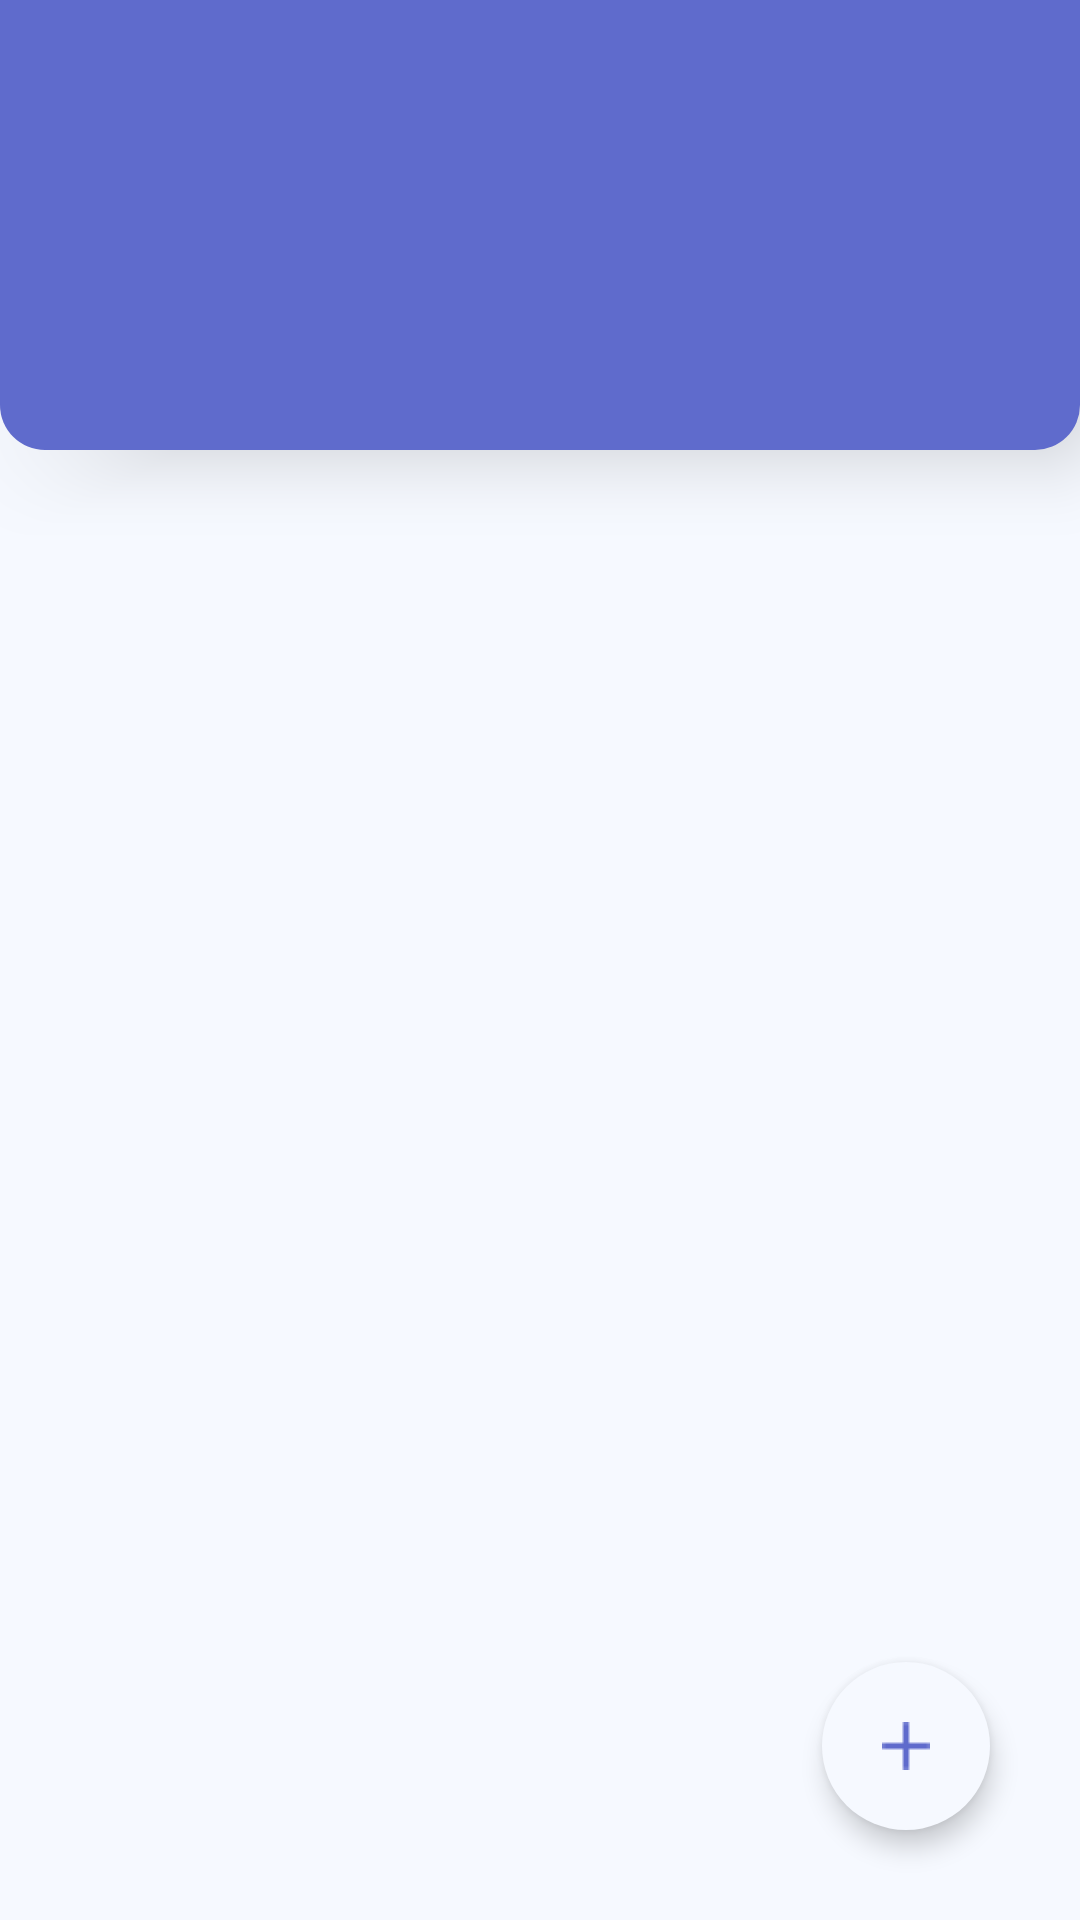

Where icons sit on this 1080w x 1920h app screen, as (x1, y1, x2, y2):
plus: (825, 1722, 990, 1830)
